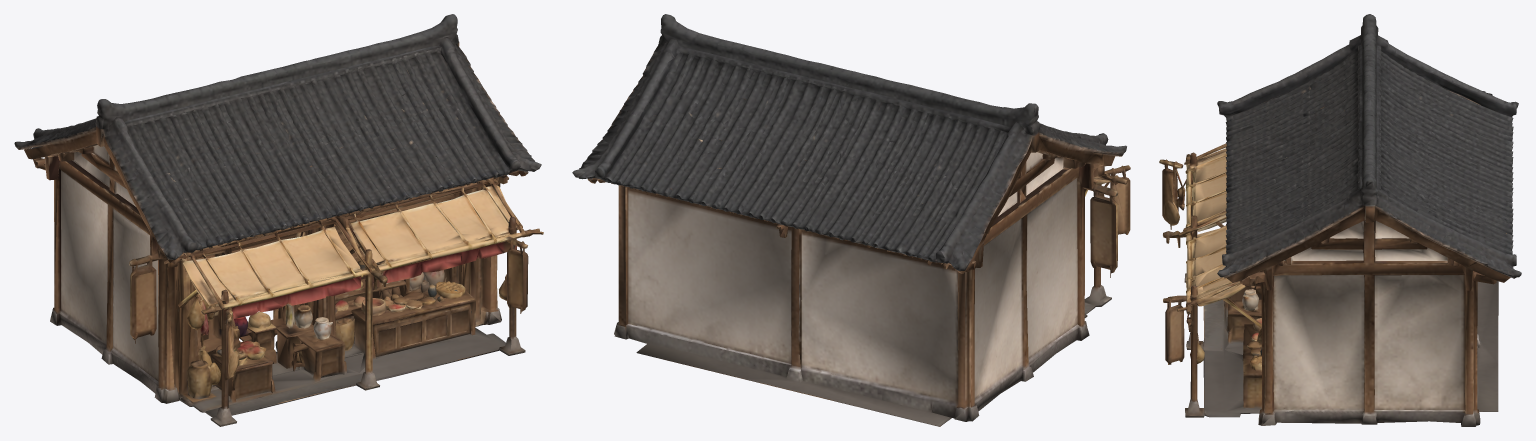
File: 04_Street_Grocery_Shop_LOD1.fbx
3 renders of one model, left to right at view 1: azimuth 30°, elevation 25°; view 2: azimuth 150°, elevation 25°; view 3: azimuth 270°, elevation 25°, orthographic. The views are drawn at different scales.
Visible parts, largest first — view 1: 04_Street_Grocery_Shop_L1; view 2: 04_Street_Grocery_Shop_L1; view 3: 04_Street_Grocery_Shop_L1.
Boxes of the visible parts, box(x1,y1,x2,y2) form: 04_Street_Grocery_Shop_L1: box(14, 14, 543, 426); 04_Street_Grocery_Shop_L1: box(572, 14, 1130, 426); 04_Street_Grocery_Shop_L1: box(1159, 14, 1521, 426).
Size of the model in its own units: 7.98 by 5.2 by 6.76.
